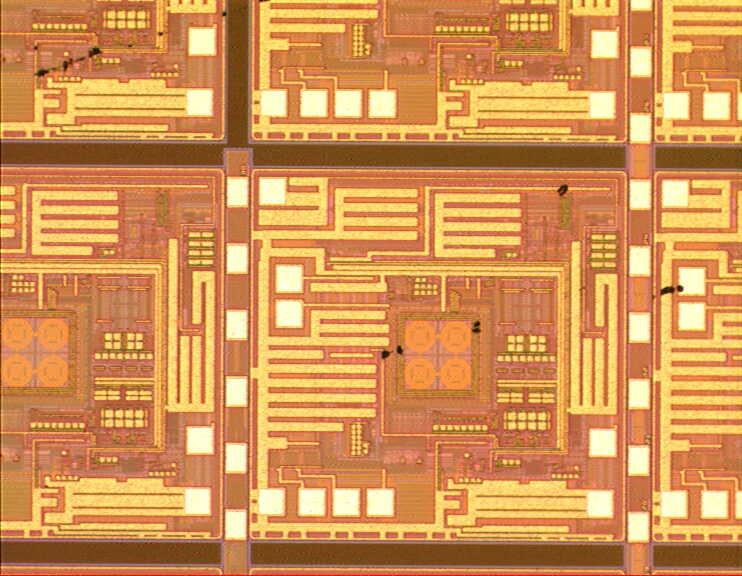PO CONTAMINATION: (7, 1, 702, 385)
